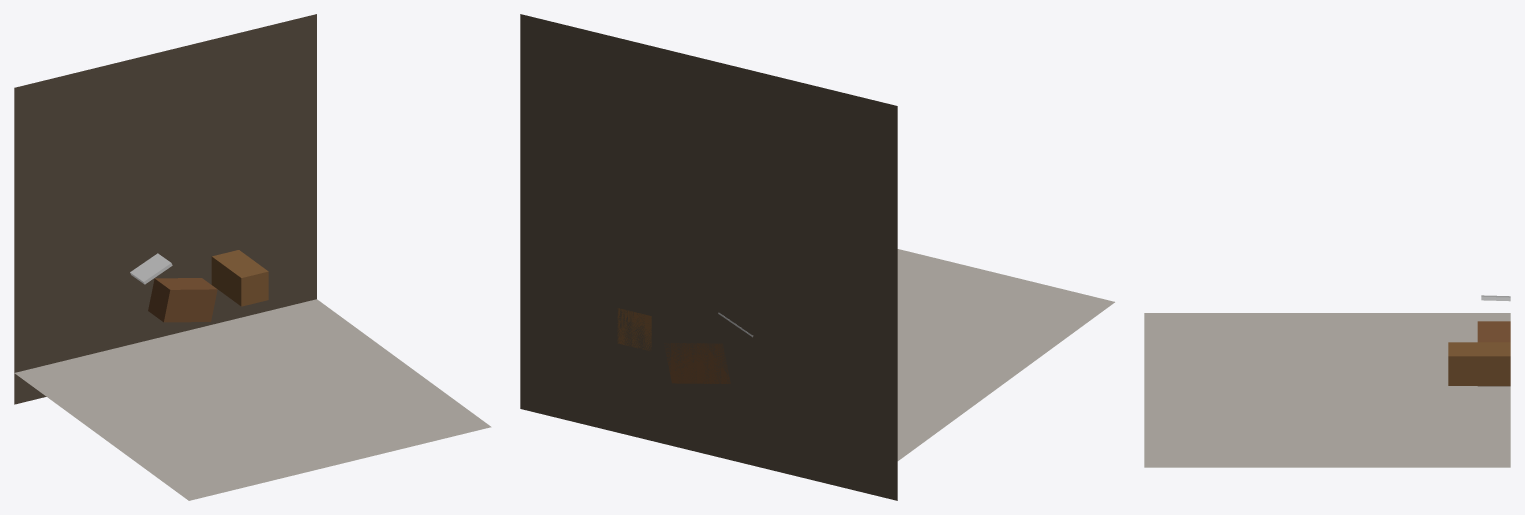
3 renders of one model, left to right at view 1: azimuth 30°, elevation 25°; view 2: azimuth 150°, elevation 25°; view 3: azimuth 270°, elevation 25°, orthographic. The views are drawn at different scales.
Visible parts, largest first — view 1: ground_floor, bg_wall_back, diffuse_table_02, diffuse_chair_01, glass_partition_01; view 2: ground_floor, bg_wall_back, diffuse_table_02, diffuse_chair_01; view 3: bg_wall_back, diffuse_chair_01, diffuse_table_02.
Boxes of the visible parts, x1,y1,x2,y2 form: ground_floor: (14,14,316,404); bg_wall_back: (14,299,491,500); diffuse_table_02: (148,278,217,322); diffuse_chair_01: (211,250,268,306); glass_partition_01: (130,253,172,284); ground_floor: (520,14,897,500); bg_wall_back: (897,249,1114,460); diffuse_table_02: (664,343,730,383); diffuse_chair_01: (617,308,651,350); bg_wall_back: (1144,313,1510,467); diffuse_chair_01: (1448,342,1510,385); diffuse_table_02: (1477,321,1510,386).
Size of the model in its own units: 0.5 by 0.5 by 0.5001.
